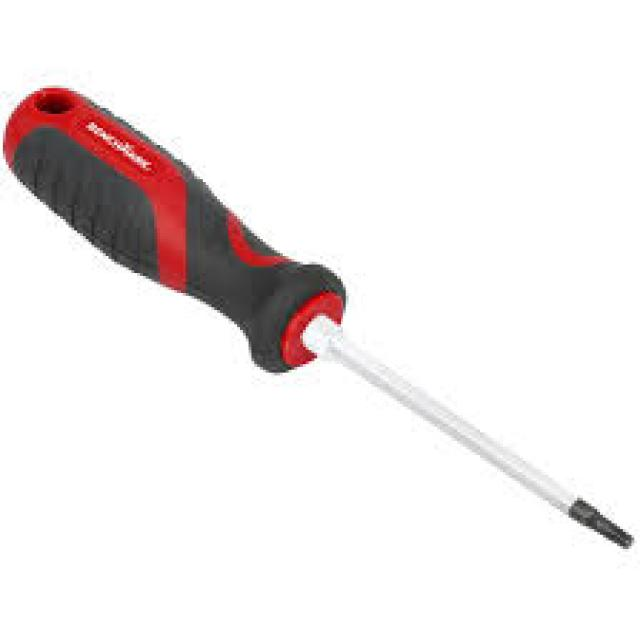Screwdriver: (3, 89, 633, 547)
